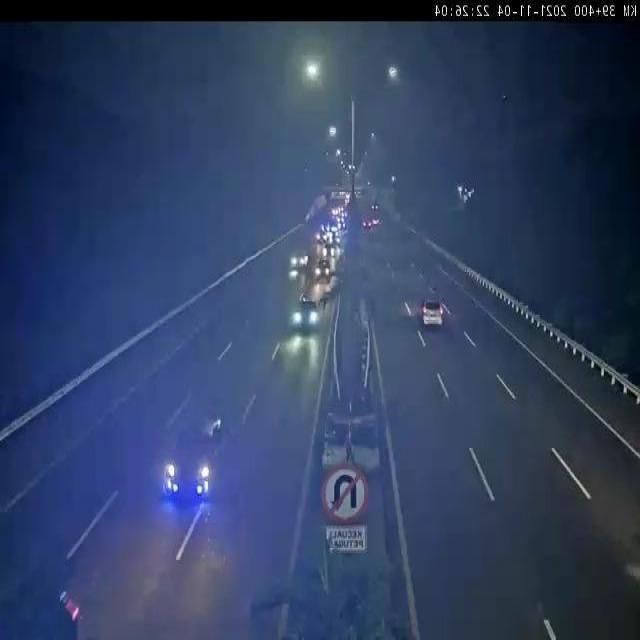Car: (155, 404, 234, 528), (0, 549, 100, 640), (290, 286, 329, 340), (417, 280, 452, 336), (288, 243, 311, 279), (311, 252, 333, 286)
